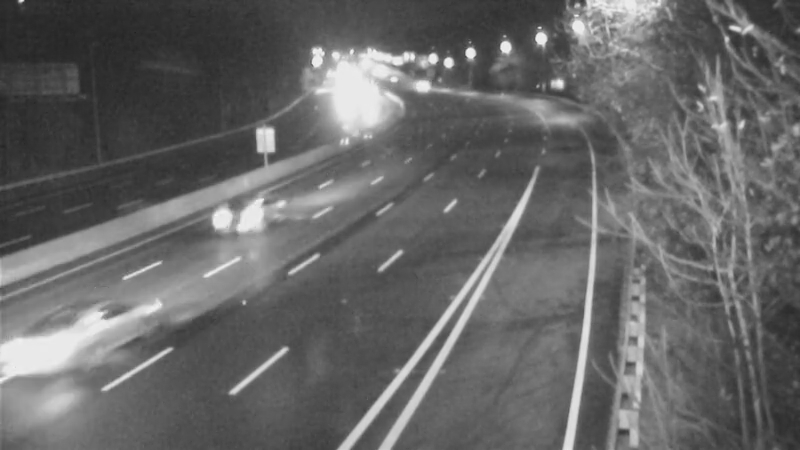vehicle: (43, 279, 153, 389), (200, 177, 280, 257), (392, 58, 442, 108)
